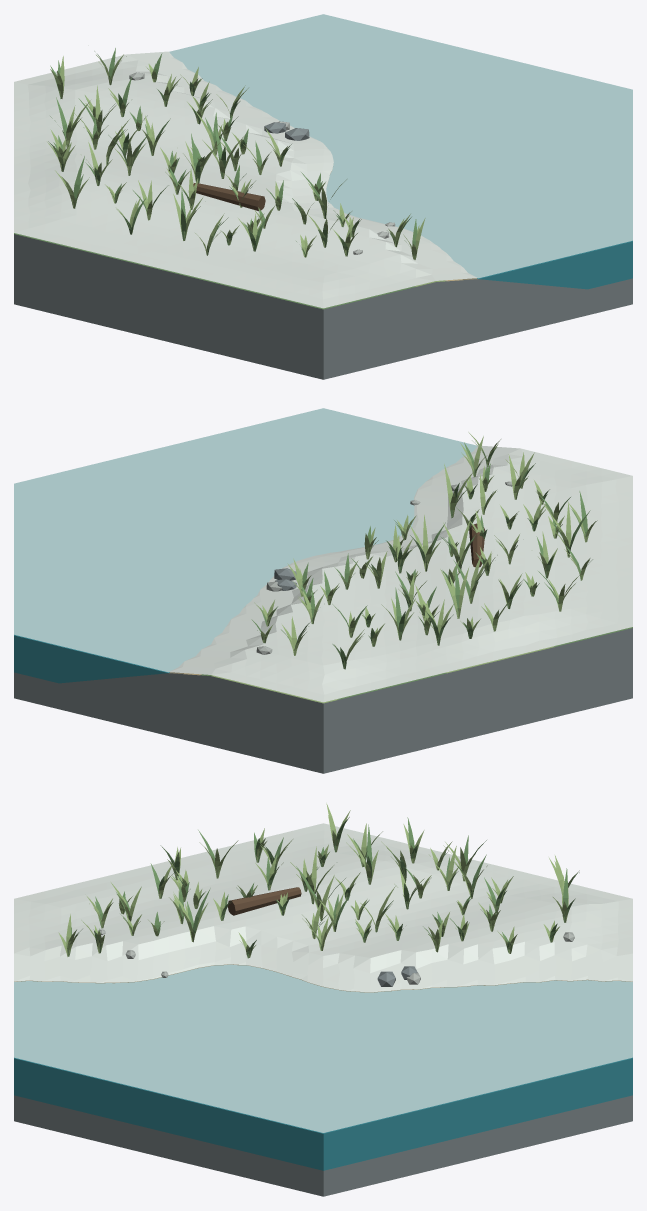
File: lake-shore.glb
The picture shows the model from 3 angles, top to bottom: view 1: azimuth 30°, elevation 25°; view 2: azimuth 150°, elevation 25°; view 3: azimuth 270°, elevation 25°; orthographic projection.
Visible parts, largest first — view 1: HydroscapeRoot_mesh, FrozenWater.004_mesh, SnowPatch.005_mesh, FrozenWater.003_mesh, FrozenWater.002_mesh, SnowPatch.004_mesh, FrozenWater.001_mesh, FrozenWater_mesh, SnowPatch.003_mesh, SnowPatch.002_mesh, SnowPatch.001_mesh, SnowPatch_mesh (+1 smaller); view 2: HydroscapeRoot_mesh, FrozenWater.004_mesh, SnowPatch.005_mesh, FrozenWater.003_mesh, FrozenWater.002_mesh, SnowPatch.004_mesh, FrozenWater.001_mesh, FrozenWater_mesh, SnowPatch.003_mesh, SnowPatch.002_mesh, SnowPatch.001_mesh, SnowPatch_mesh (+3 smaller); view 3: HydroscapeRoot_mesh, FrozenWater.004_mesh, SnowPatch.005_mesh, FrozenWater.003_mesh, SnowPatch.004_mesh, FrozenWater.002_mesh, FrozenWater.001_mesh, SnowPatch.003_mesh, FrozenWater_mesh, SnowPatch.001_mesh, SnowPatch.002_mesh, SnowPatch_mesh (+2 smaller).
Part boxes in pixels (left/top/right/bottom): HydroscapeRoot_mesh: left=14, top=72, right=632, bottom=379; FrozenWater.004_mesh: left=199, top=14, right=632, bottom=270; SnowPatch.005_mesh: left=14, top=57, right=467, bottom=300; FrozenWater.003_mesh: left=183, top=14, right=632, bottom=274; FrozenWater.002_mesh: left=175, top=37, right=632, bottom=278; SnowPatch.004_mesh: left=14, top=57, right=462, bottom=296; FrozenWater.001_mesh: left=169, top=40, right=632, bottom=244; FrozenWater_mesh: left=169, top=40, right=632, bottom=240; SnowPatch.003_mesh: left=14, top=52, right=477, bottom=304; SnowPatch.002_mesh: left=14, top=51, right=431, bottom=304; SnowPatch.001_mesh: left=14, top=63, right=429, bottom=299; SnowPatch_mesh: left=14, top=52, right=446, bottom=308; HydroscapeRoot_mesh: left=14, top=481, right=632, bottom=773; FrozenWater.004_mesh: left=14, top=419, right=454, bottom=653; SnowPatch.005_mesh: left=183, top=447, right=632, bottom=702; FrozenWater.003_mesh: left=14, top=415, right=464, bottom=661; FrozenWater.002_mesh: left=14, top=412, right=477, bottom=667; SnowPatch.004_mesh: left=179, top=446, right=632, bottom=687; FrozenWater.001_mesh: left=14, top=408, right=416, bottom=671; FrozenWater_mesh: left=14, top=408, right=413, bottom=672; SnowPatch.003_mesh: left=170, top=445, right=632, bottom=687; SnowPatch.002_mesh: left=169, top=464, right=632, bottom=683; SnowPatch.001_mesh: left=216, top=465, right=632, bottom=676; SnowPatch_mesh: left=184, top=467, right=632, bottom=679; HydroscapeRoot_mesh: left=14, top=887, right=632, bottom=1196; FrozenWater.004_mesh: left=14, top=964, right=632, bottom=1132; SnowPatch.005_mesh: left=14, top=823, right=632, bottom=992; FrozenWater.003_mesh: left=14, top=971, right=632, bottom=1129; SnowPatch.004_mesh: left=14, top=831, right=632, bottom=989; FrozenWater.002_mesh: left=14, top=972, right=632, bottom=1117; FrozenWater.001_mesh: left=14, top=975, right=632, bottom=1113; SnowPatch.003_mesh: left=14, top=827, right=632, bottom=992; FrozenWater_mesh: left=14, top=976, right=632, bottom=1106; SnowPatch.001_mesh: left=30, top=838, right=616, bottom=989; SnowPatch.002_mesh: left=14, top=831, right=632, bottom=991; SnowPatch_mesh: left=14, top=834, right=632, bottom=989.
Size of the model in its own units: 3.5 by 0.686 by 3.03.
